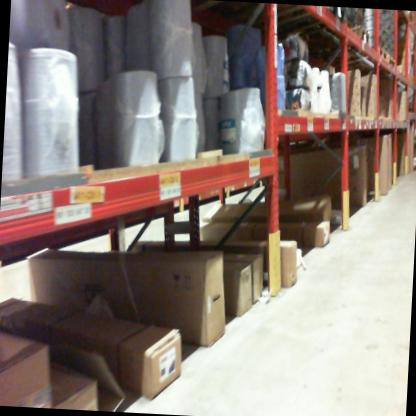pallet: (258, 3, 351, 41), (313, 23, 373, 68), (341, 43, 390, 80), (378, 57, 399, 75), (411, 152, 416, 173)
